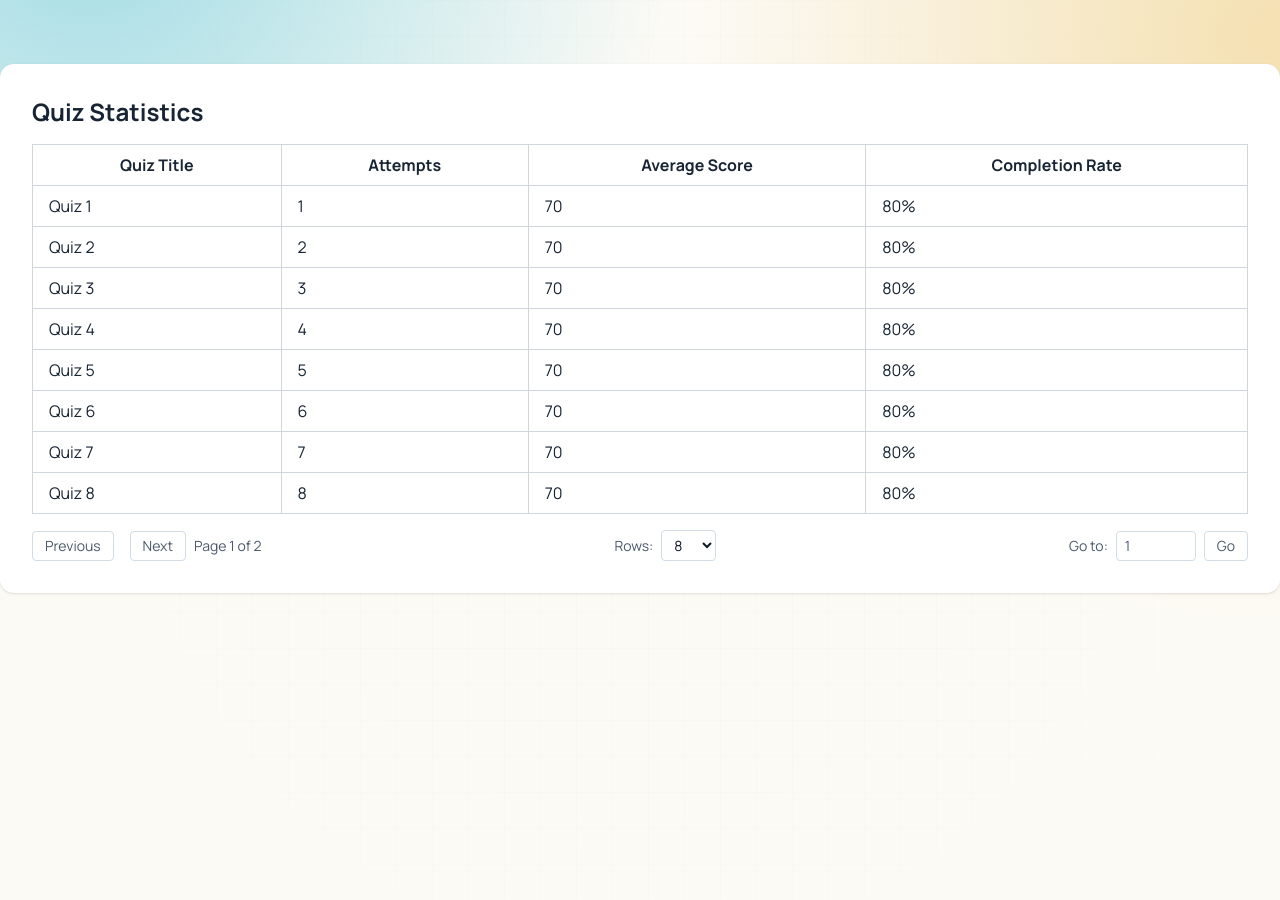
Test: QuizStatistics › allows changing page size and jumping to a page
Expected: the text "Quiz 1" is shown, [32, 186, 281, 226]
Select "5" in the dropdown labelled "Rows:": {"x": 689, "y": 546} [661, 530, 716, 561]
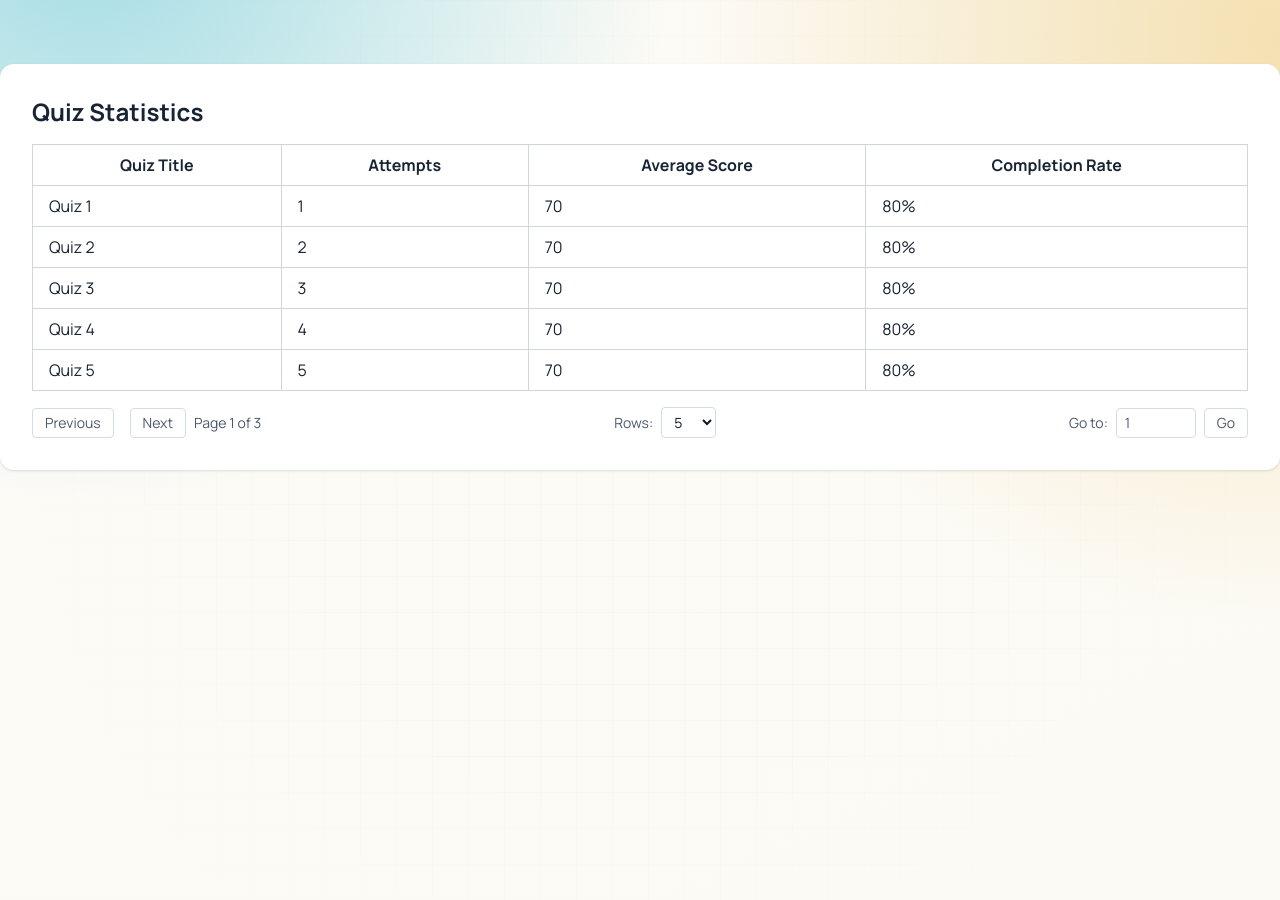
Result: the text "Page 1 of 3" is shown at [194, 412, 261, 432]
Replace the text in the number field labelled "Go to:" with "3": {"x": 1156, "y": 422} [1116, 408, 1196, 438]
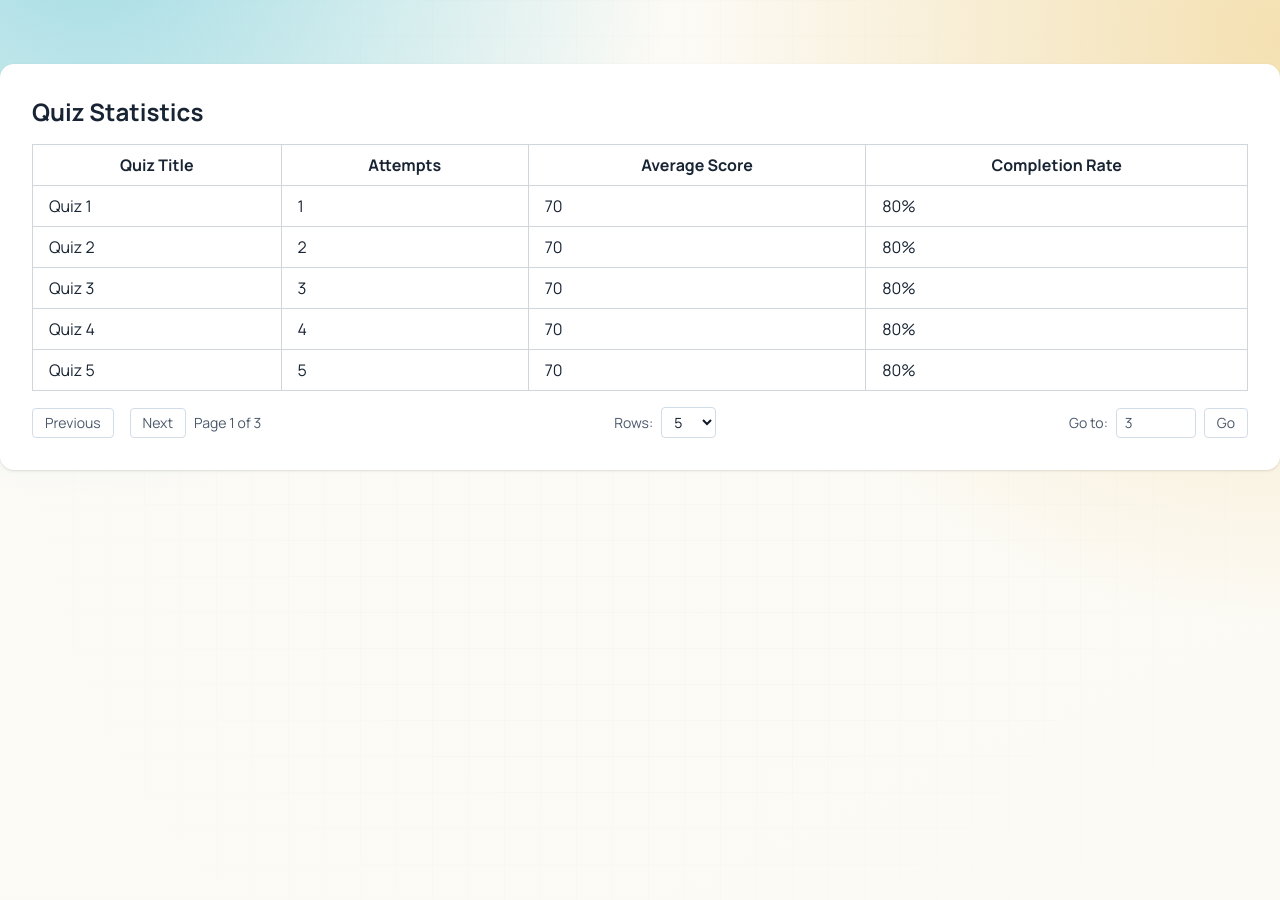
Click the button "Go": {"x": 1226, "y": 422} [1204, 408, 1248, 438]
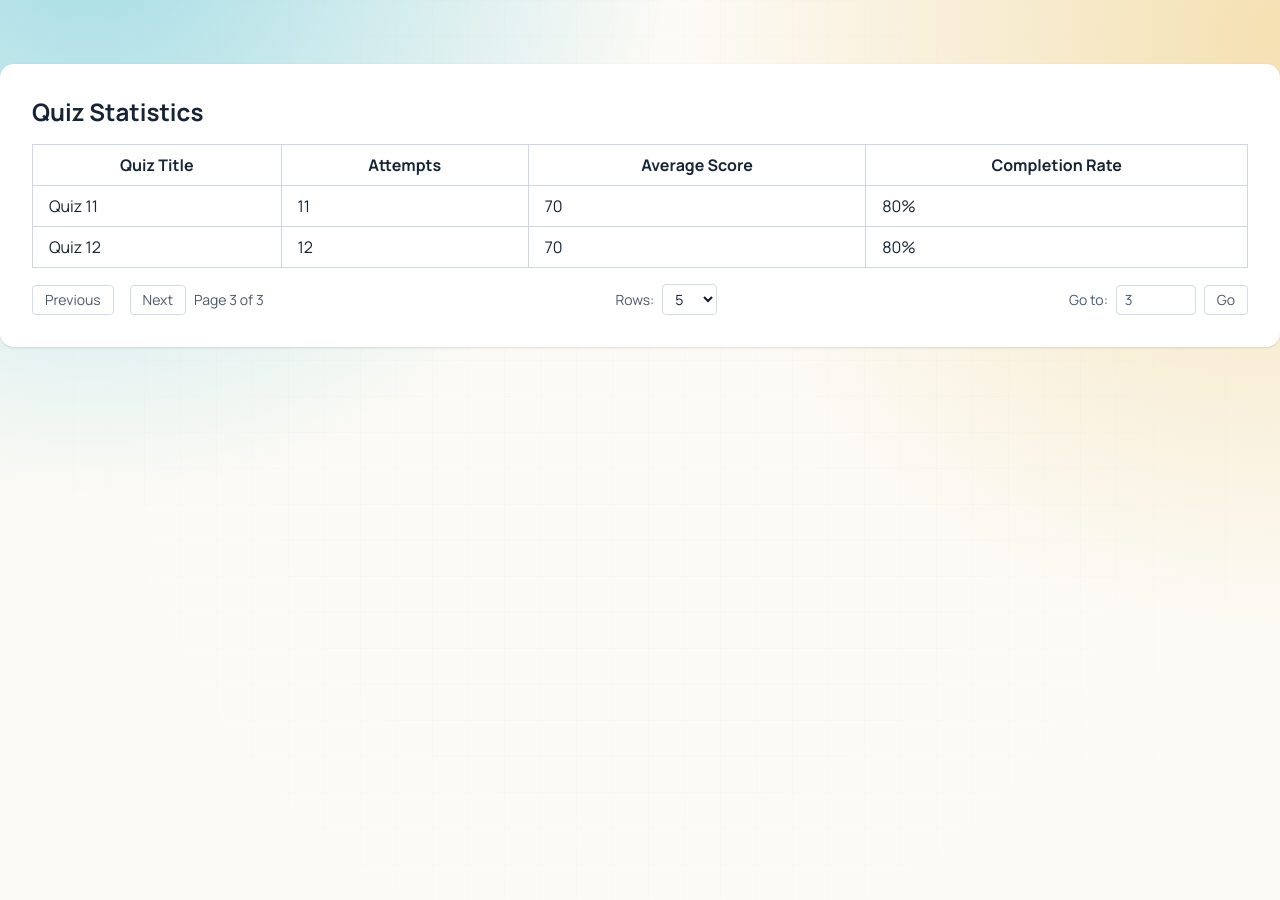
Result: the text "Page 3 of 3" is shown at [194, 290, 264, 310]
Result: the text "Quiz 12" is shown at [32, 226, 281, 268]
